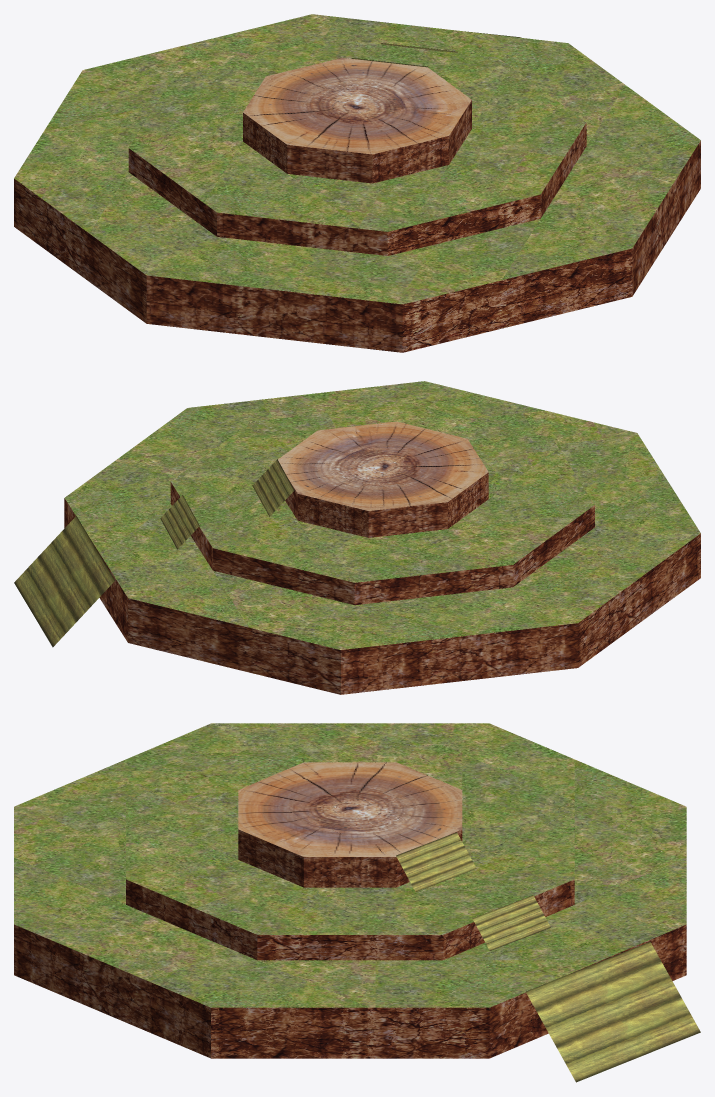
The model's file is start_table.obj.
The picture shows the model from 3 angles, top to bottom: view 1: azimuth 30°, elevation 25°; view 2: azimuth 150°, elevation 25°; view 3: azimuth 270°, elevation 25°; orthographic projection. The views are drawn at different scales.
Parts seen in each view (by area): view 1: SM_MERGED_Plane6_3.019_SM_MERGED_Plane6.019, SM_MERGED_Plane6_3.025_SM_MERGED_Plane6.025, SM_MERGED_Plane6_3.023_SM_MERGED_Plane6.023, SM_MERGED_Plane6_3.024_SM_MERGED_Plane6.024; view 2: SM_MERGED_Plane6_3.019_SM_MERGED_Plane6.019, SM_MERGED_Plane6_3.025_SM_MERGED_Plane6.025, SM_MERGED_Plane6_3.023_SM_MERGED_Plane6.023, SM_MERGED_Plane6_3.020_SM_MERGED_Plane6.020, SM_MERGED_Plane6_3.024_SM_MERGED_Plane6.024, SM_MERGED_Plane6_3.022_SM_MERGED_Plane6.022, SM_MERGED_Plane6_3.021_SM_MERGED_Plane6.021; view 3: SM_MERGED_Plane6_3.019_SM_MERGED_Plane6.019, SM_MERGED_Plane6_3.025_SM_MERGED_Plane6.025, SM_MERGED_Plane6_3.023_SM_MERGED_Plane6.023, SM_MERGED_Plane6_3.020_SM_MERGED_Plane6.020, SM_MERGED_Plane6_3.024_SM_MERGED_Plane6.024, SM_MERGED_Plane6_3.022_SM_MERGED_Plane6.022, SM_MERGED_Plane6_3.021_SM_MERGED_Plane6.021.
Boxes of the visible parts, x1=… form: SM_MERGED_Plane6_3.019_SM_MERGED_Plane6.019: x1=14, y1=14, x2=700, y2=304; SM_MERGED_Plane6_3.025_SM_MERGED_Plane6.025: x1=14, y1=122, x2=700, y2=352; SM_MERGED_Plane6_3.023_SM_MERGED_Plane6.023: x1=243, y1=57, x2=471, y2=154; SM_MERGED_Plane6_3.024_SM_MERGED_Plane6.024: x1=243, y1=100, x2=471, y2=183; SM_MERGED_Plane6_3.019_SM_MERGED_Plane6.019: x1=65, y1=381, x2=700, y2=649; SM_MERGED_Plane6_3.025_SM_MERGED_Plane6.025: x1=64, y1=482, x2=700, y2=694; SM_MERGED_Plane6_3.023_SM_MERGED_Plane6.023: x1=278, y1=421, x2=488, y2=510; SM_MERGED_Plane6_3.020_SM_MERGED_Plane6.020: x1=14, y1=516, x2=114, y2=647; SM_MERGED_Plane6_3.024_SM_MERGED_Plane6.024: x1=285, y1=472, x2=488, y2=537; SM_MERGED_Plane6_3.022_SM_MERGED_Plane6.022: x1=252, y1=459, x2=294, y2=516; SM_MERGED_Plane6_3.021_SM_MERGED_Plane6.021: x1=160, y1=495, x2=199, y2=549; SM_MERGED_Plane6_3.019_SM_MERGED_Plane6.019: x1=14, y1=723, x2=686, y2=1007; SM_MERGED_Plane6_3.025_SM_MERGED_Plane6.025: x1=14, y1=879, x2=686, y2=1058; SM_MERGED_Plane6_3.023_SM_MERGED_Plane6.023: x1=238, y1=762, x2=462, y2=856; SM_MERGED_Plane6_3.020_SM_MERGED_Plane6.020: x1=526, y1=941, x2=700, y2=1082; SM_MERGED_Plane6_3.024_SM_MERGED_Plane6.024: x1=238, y1=829, x2=462, y2=887; SM_MERGED_Plane6_3.022_SM_MERGED_Plane6.022: x1=396, y1=832, x2=476, y2=891; SM_MERGED_Plane6_3.021_SM_MERGED_Plane6.021: x1=472, y1=895, x2=550, y2=950.
Size of the model in its own units: 12.45 by 2.53 by 12.42.
